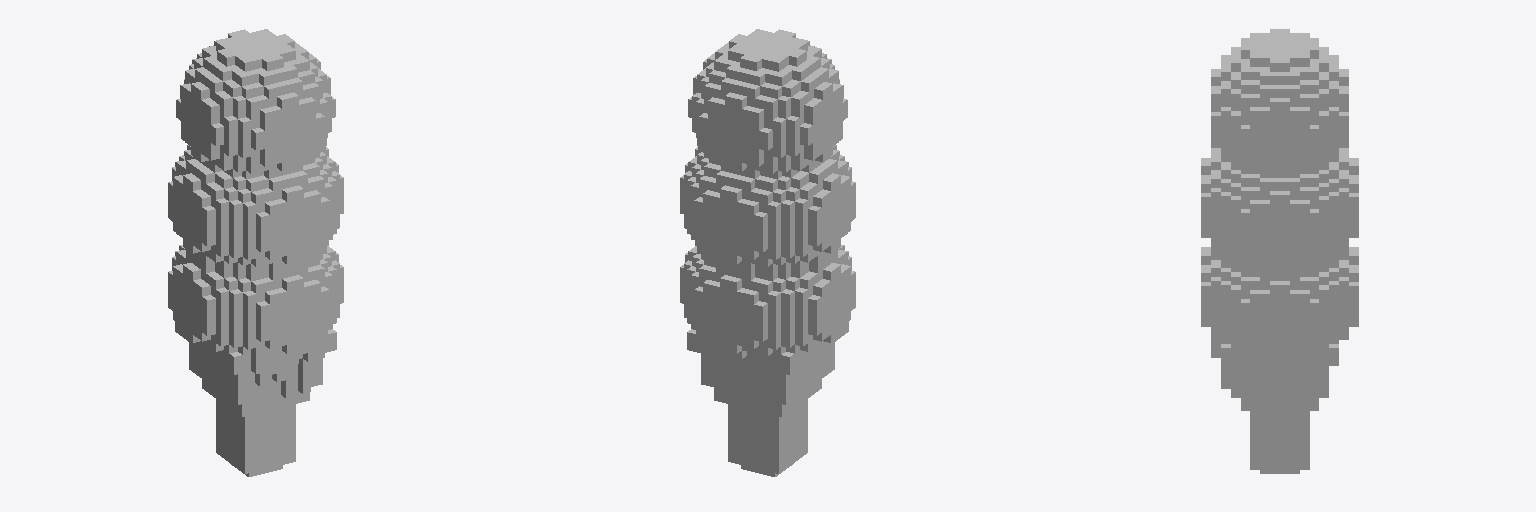
Rendered from icecream.obj.
3 renders of one model, left to right at view 1: azimuth 30°, elevation 25°; view 2: azimuth 150°, elevation 25°; view 3: azimuth 270°, elevation 25°, orthographic.
Visible parts, largest first — view 1: object 1; view 2: object 1; view 3: object 1.
Part boxes in pixels (x1,y1,x2,y2): object 1: (168, 29, 343, 476); object 1: (680, 29, 855, 476); object 1: (1201, 29, 1358, 473).
Size of the model in its own units: 1.6 by 4.7 by 1.6.